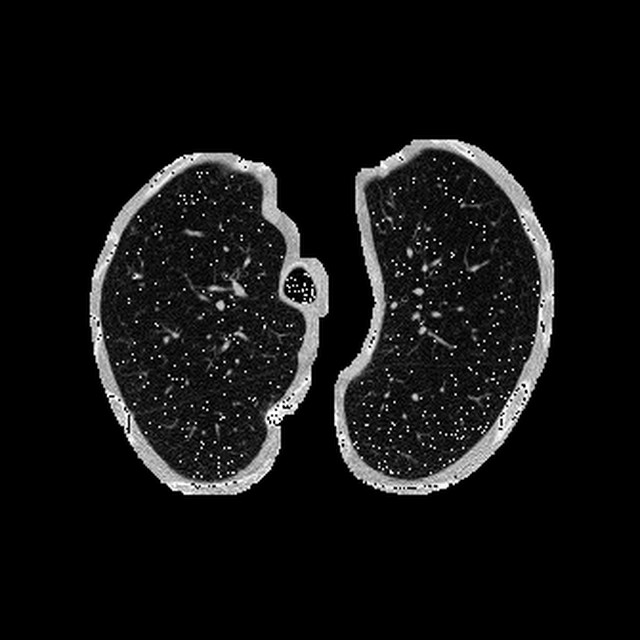PN: (132, 273, 139, 281)
